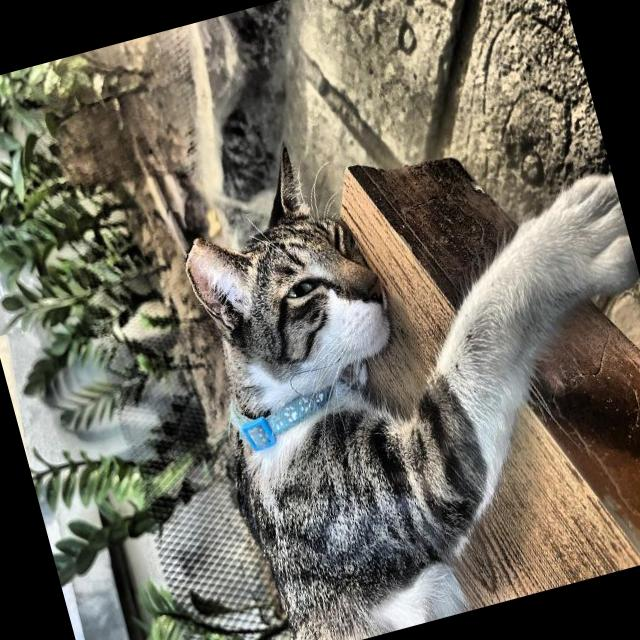Healthy skin: (303, 420, 447, 608), (176, 208, 306, 394)
